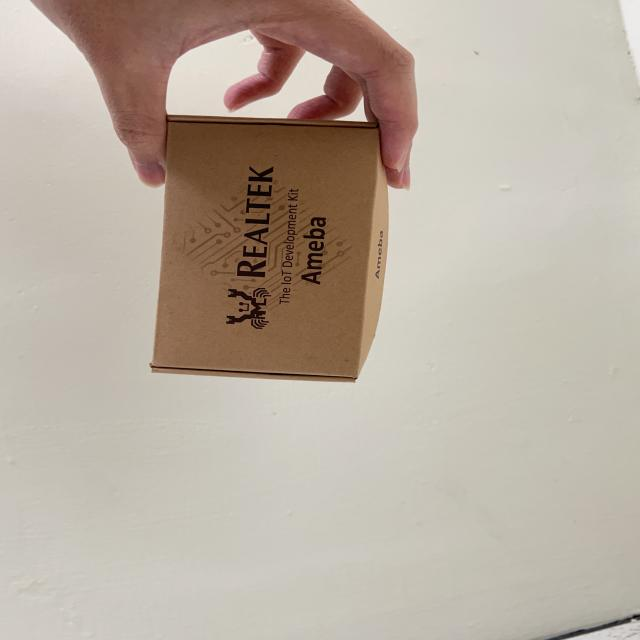box: (142, 94, 426, 398)
